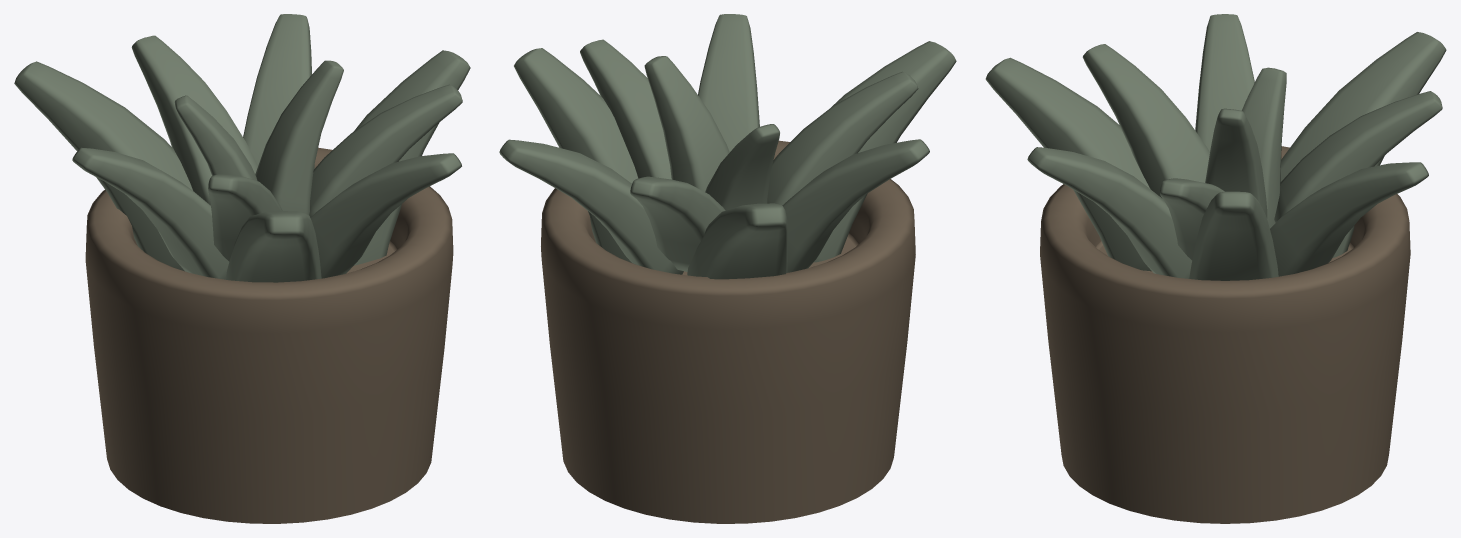
The model's file is plant01.fbx.
3 views of the same model, side by side, from view 1: azimuth 30°, elevation 25°; view 2: azimuth 150°, elevation 25°; view 3: azimuth 270°, elevation 25° (orthographic).
Parts seen in each view (by area): view 1: plant01; view 2: plant01; view 3: plant01.
Boxes of the visible parts, x1,y1,x2,y2 form: plant01: (14, 14, 470, 523); plant01: (499, 14, 956, 523); plant01: (985, 14, 1446, 523).
Size of the model in its own units: 45.43 by 41.42 by 45.97.
